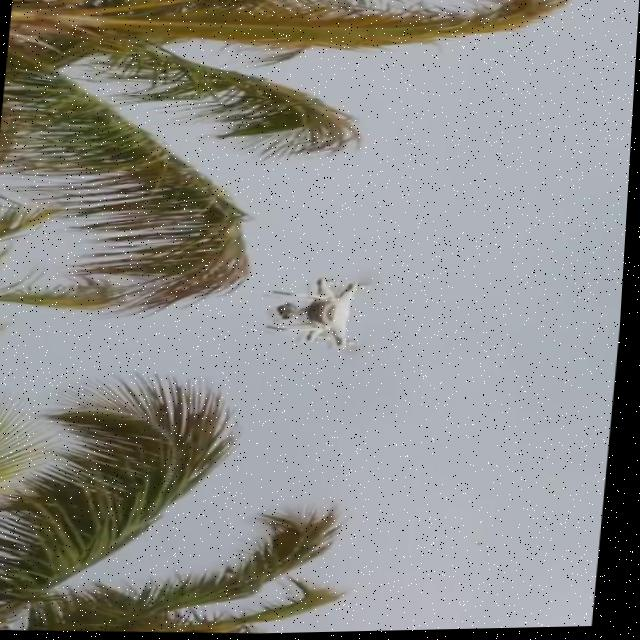drones: (258, 267, 388, 361)
